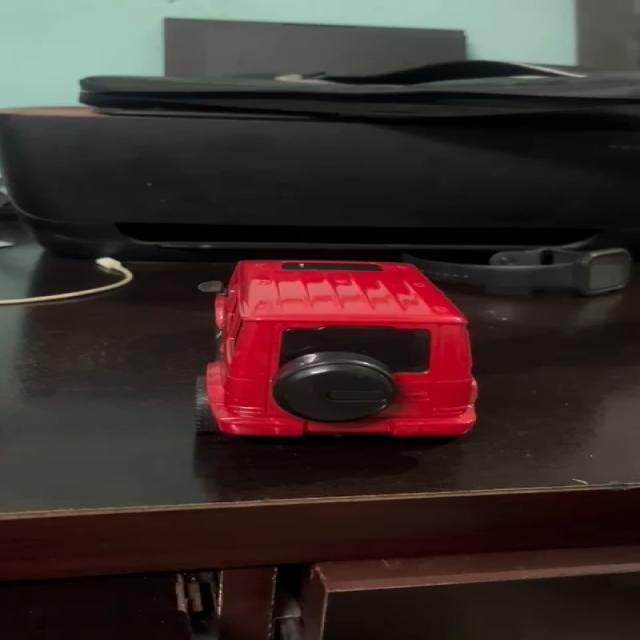light_vehicle: (192, 251, 482, 456)
